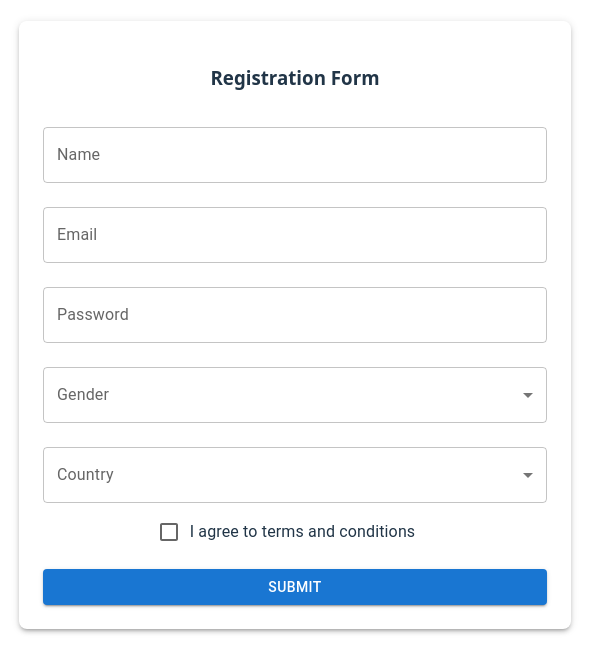
Test: Registration Form › submits form successfully
Type "Test" into the field labelled "Name" at (295, 154), box x1=43 y1=126 x2=547 y2=182
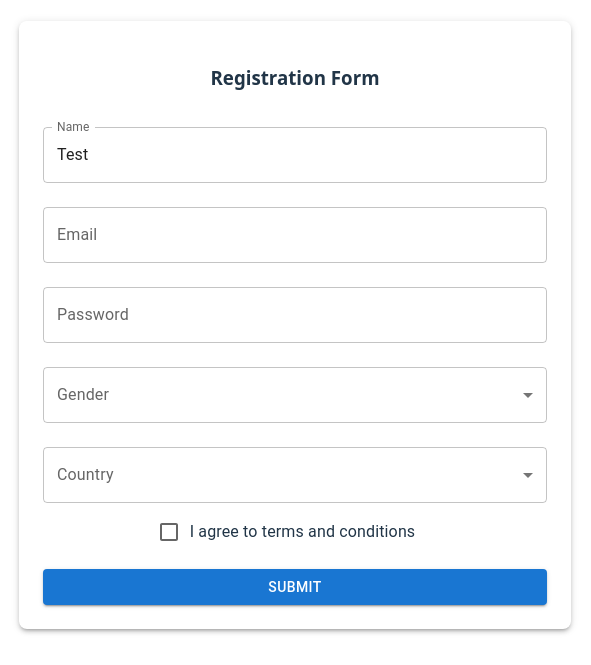
Type "test@test.com" into the field labelled "Email" at (295, 234), box x1=43 y1=206 x2=547 y2=262
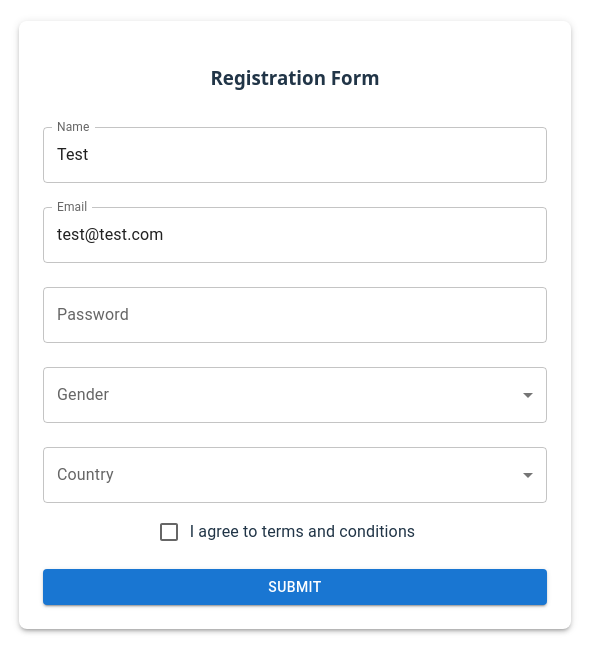
Type "123456" into the password field labelled "Password" at (295, 314), box x1=43 y1=286 x2=547 y2=342
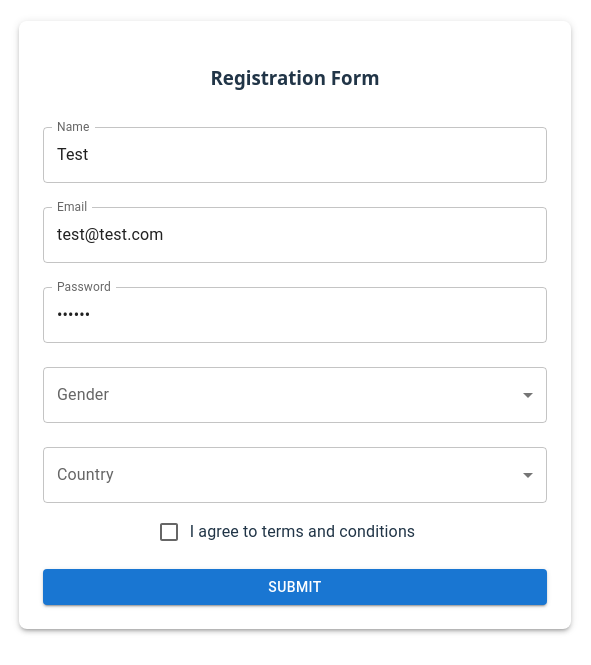
Click the button "Submit" at (295, 587), box x1=43 y1=568 x2=547 y2=605
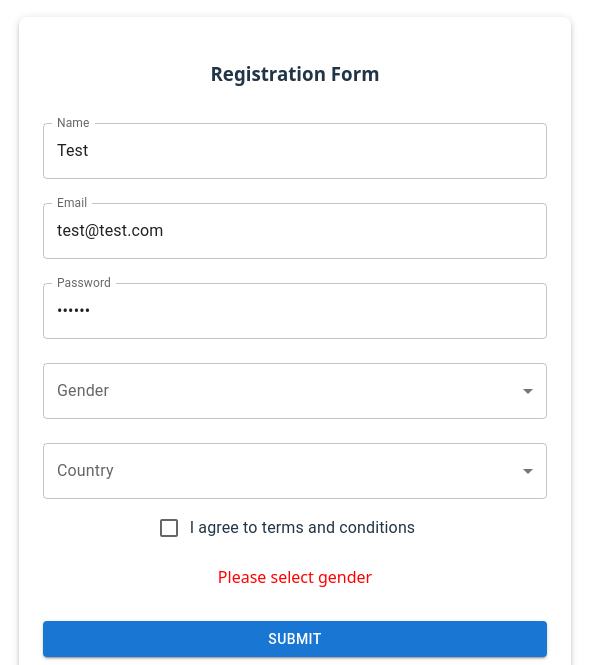
expect the text "Please select gender" is shown: met, box x1=218 y1=566 x2=372 y2=588
